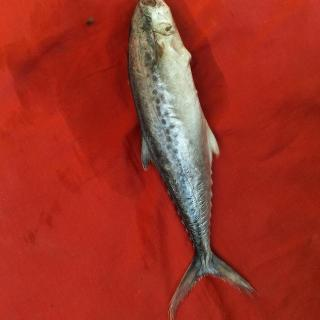Ikan: (128, 1, 263, 315)
